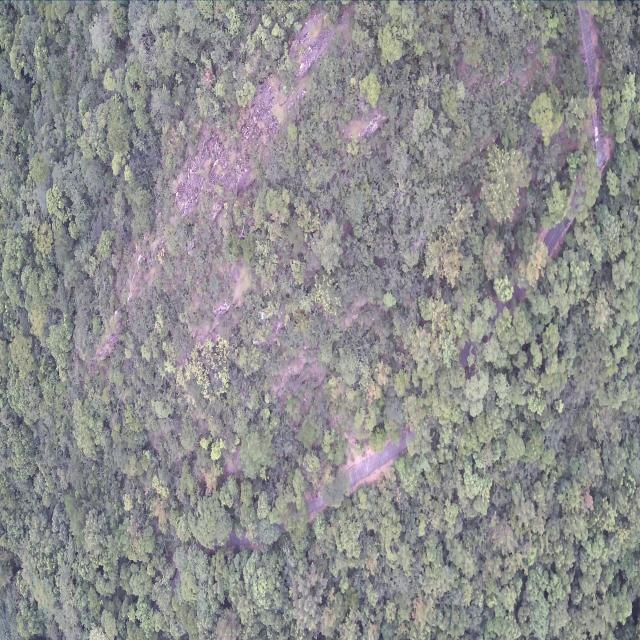drone: (258, 311, 266, 321)
